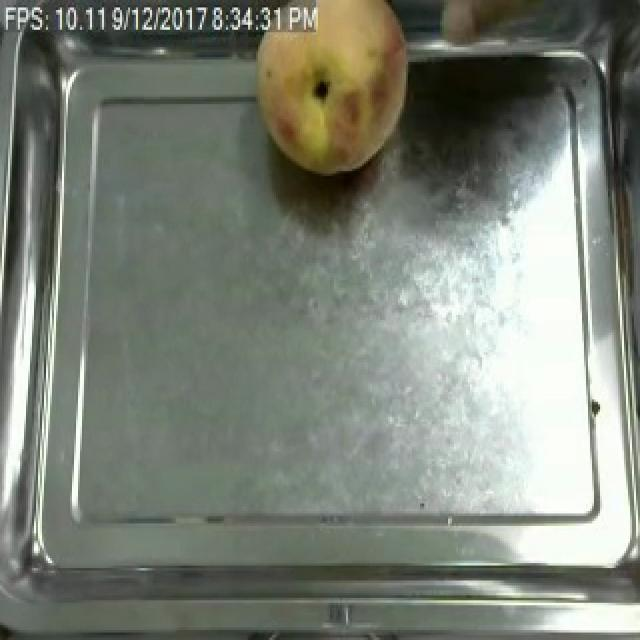Fruit: (242, 0, 418, 186)
